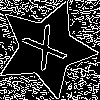X: (21, 24, 75, 80)
